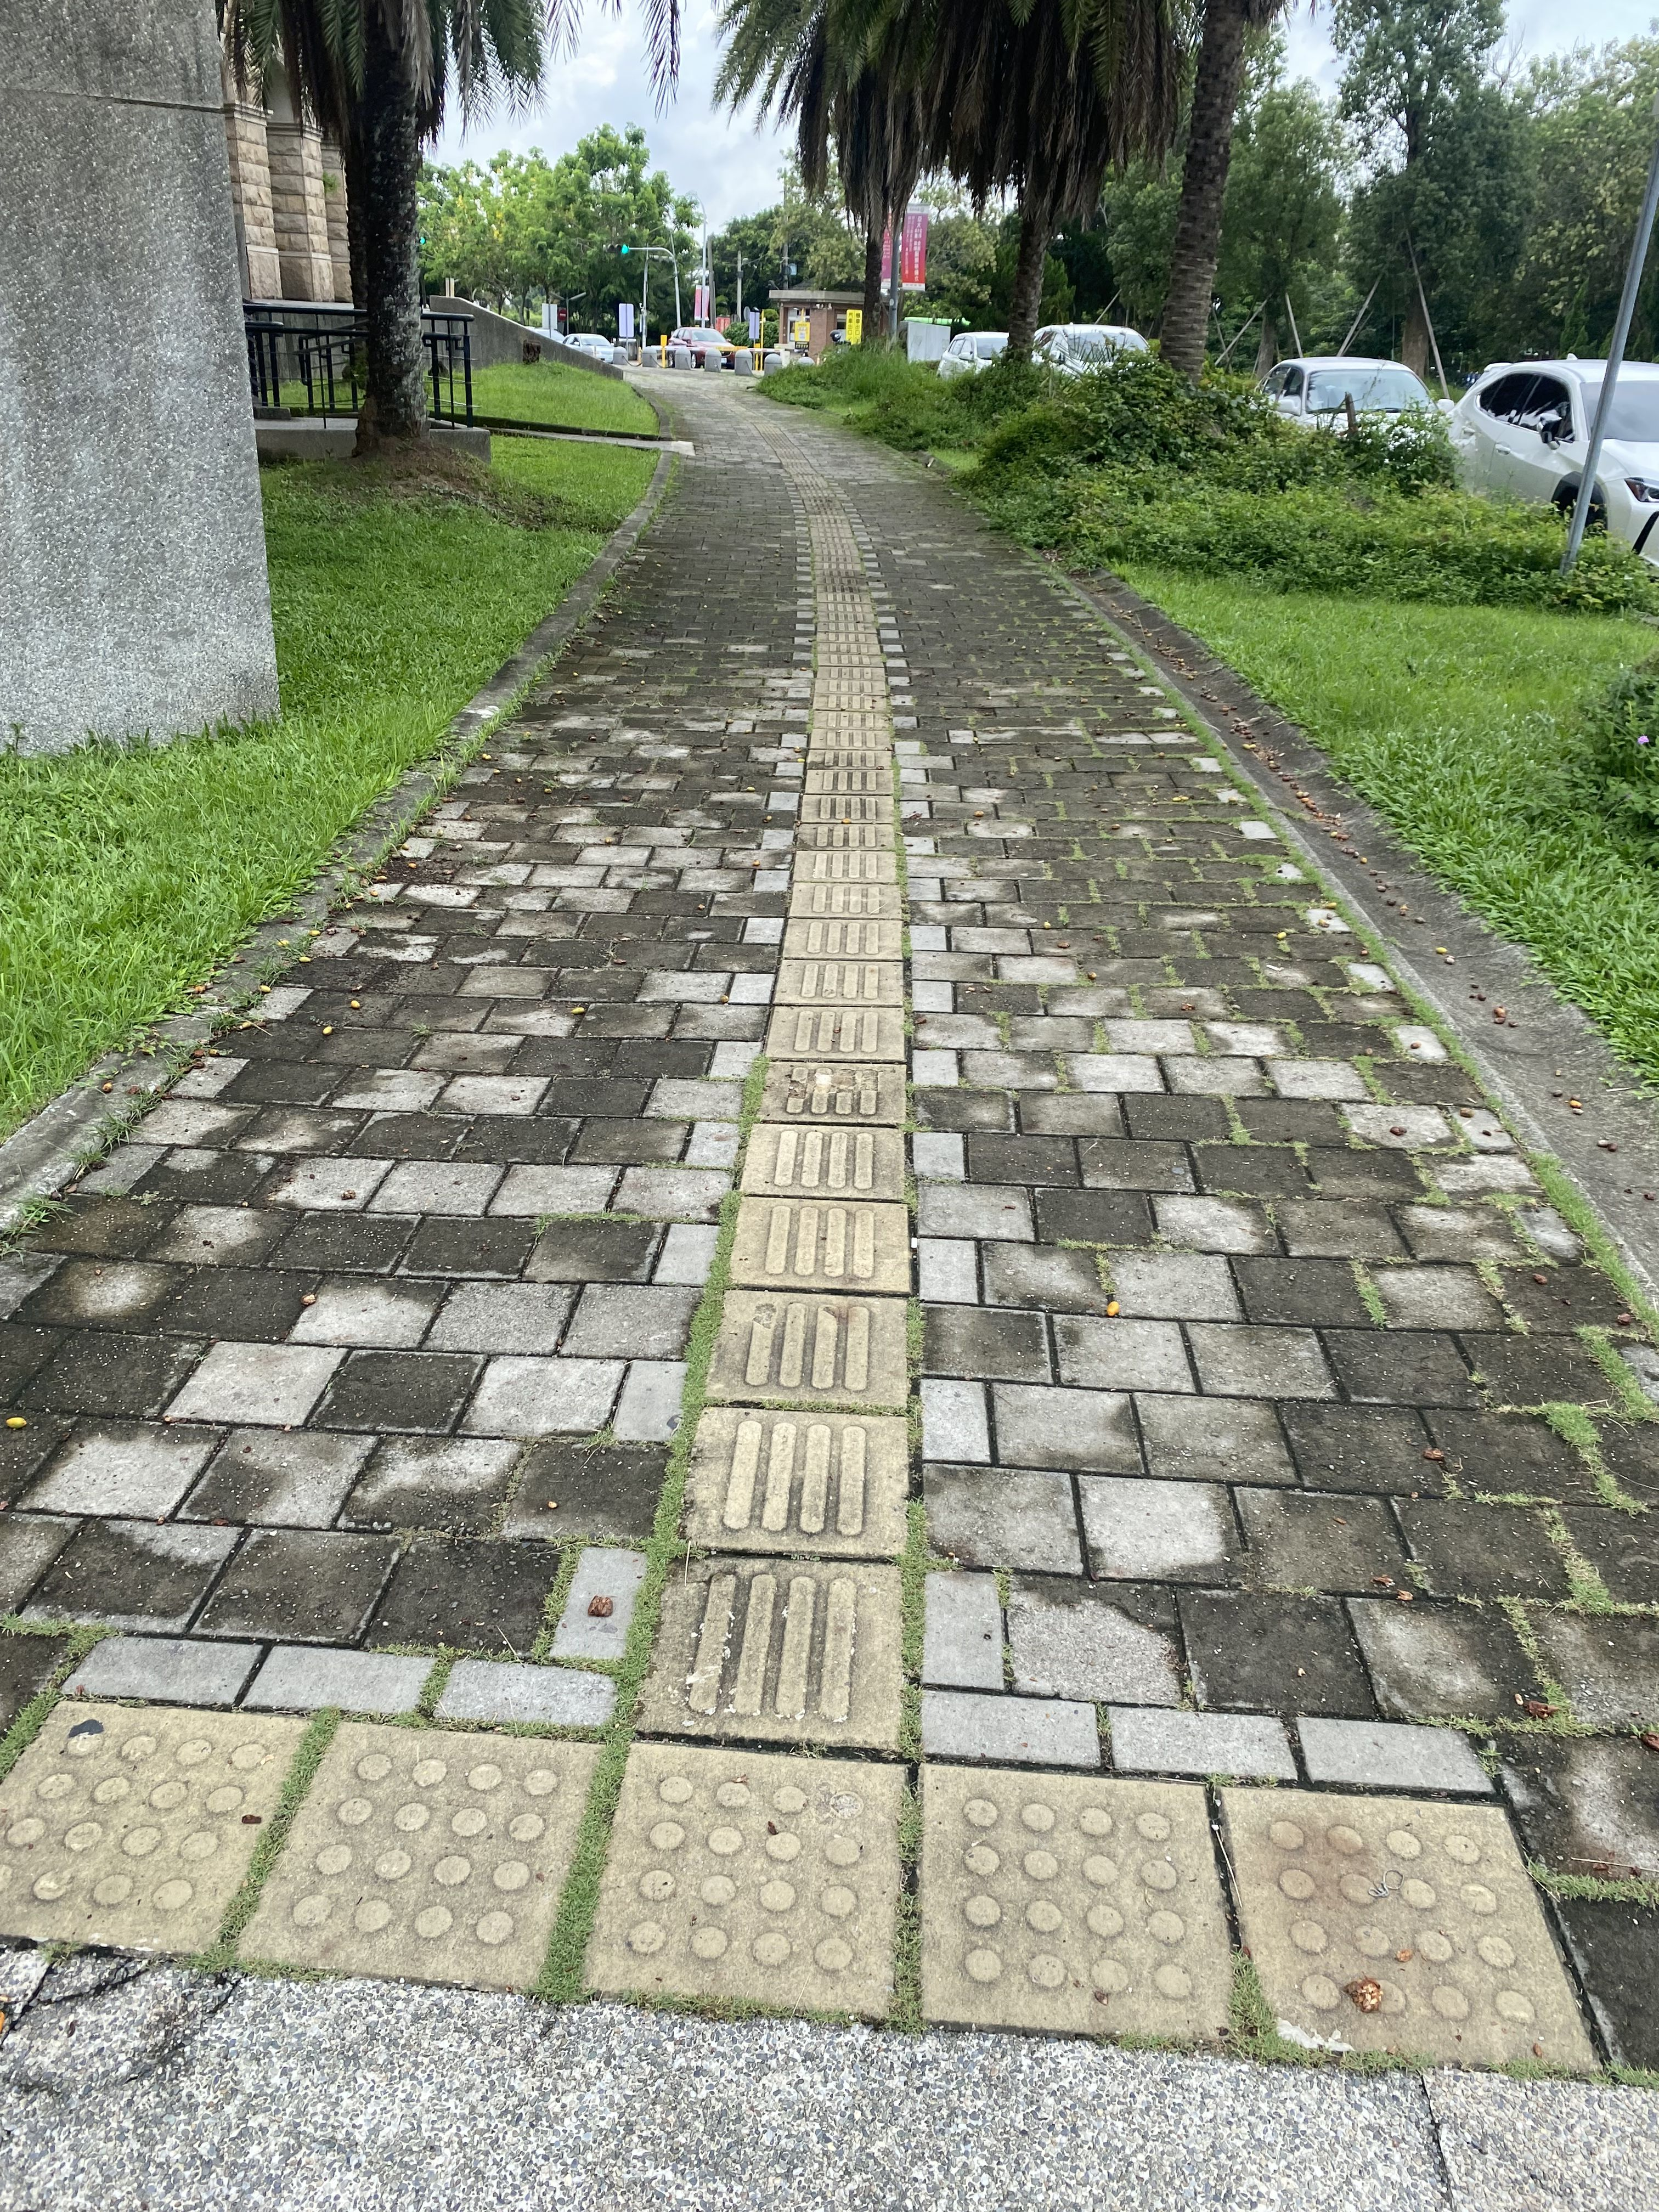0: (5, 808, 1659, 2212)
sidewalk: (340, 334, 1368, 1278)
